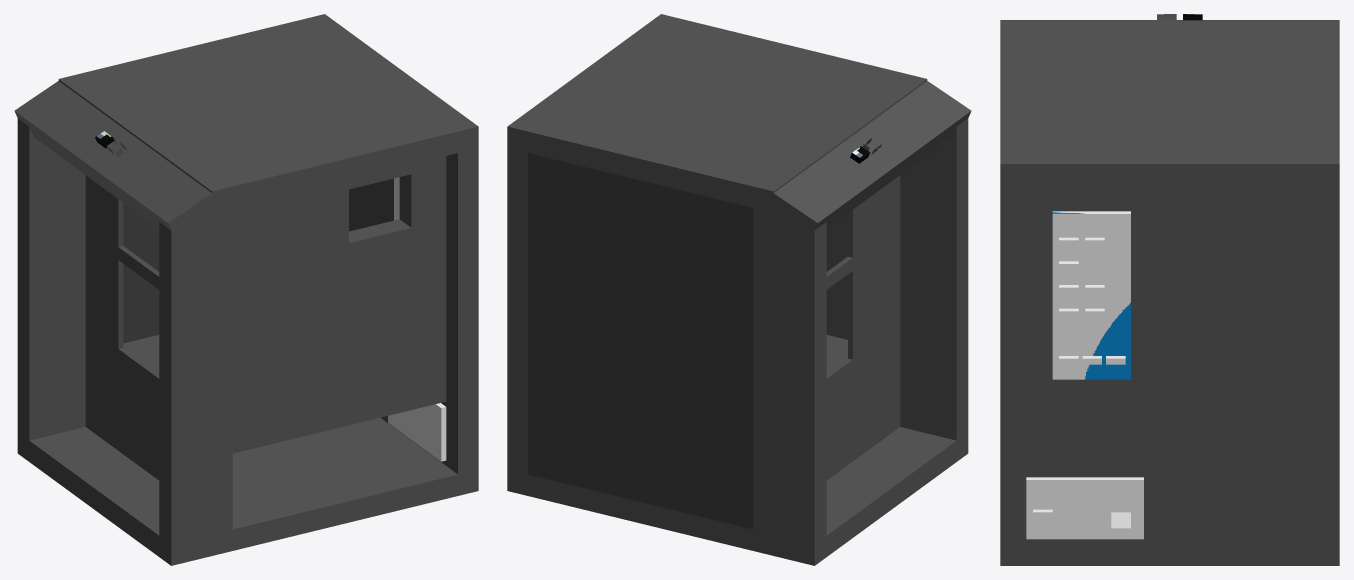
File: boitierpc.obj
The picture shows the model from 3 angles, left to right: view 1: azimuth 30°, elevation 25°; view 2: azimuth 150°, elevation 25°; view 3: azimuth 270°, elevation 25°; orthographic projection. The views are drawn at different scales.
Parts seen in each view (by area): view 1: cube, haut, bas, gauche, haut inc, vitre; view 2: vitre, cube, haut, bas, haut inc, gauche; view 3: gauche, haut, cube, bas.
Boxes of the visible parts, bbox=[...] form: cube: bbox=[17, 118, 446, 551]; haut: bbox=[58, 14, 478, 212]; bas: bbox=[17, 417, 478, 565]; gauche: bbox=[349, 148, 478, 474]; haut inc: bbox=[14, 81, 222, 240]; vitre: bbox=[123, 203, 159, 343]; vitre: bbox=[528, 153, 753, 529]; cube: bbox=[753, 118, 968, 551]; haut: bbox=[507, 14, 927, 212]; bas: bbox=[507, 427, 968, 565]; haut inc: bbox=[764, 81, 971, 229]; gauche: bbox=[507, 148, 527, 474]; gauche: bbox=[1000, 187, 1339, 542]; haut: bbox=[1000, 20, 1339, 187]; cube: bbox=[1026, 14, 1202, 539]; bas: bbox=[1000, 542, 1339, 565].
Size of the model in its own units: 0.9784 by 1.06 by 0.8125.
